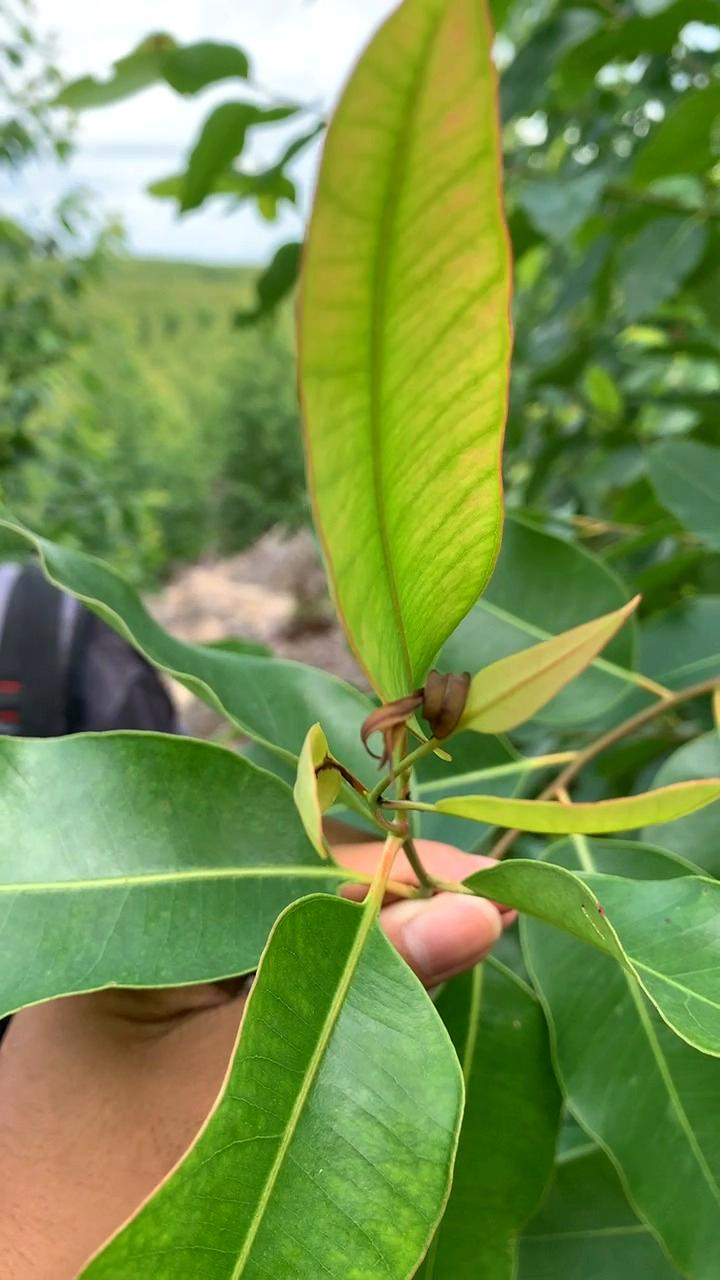Helopeltis-Withered Sprout: (341, 646, 496, 799)
